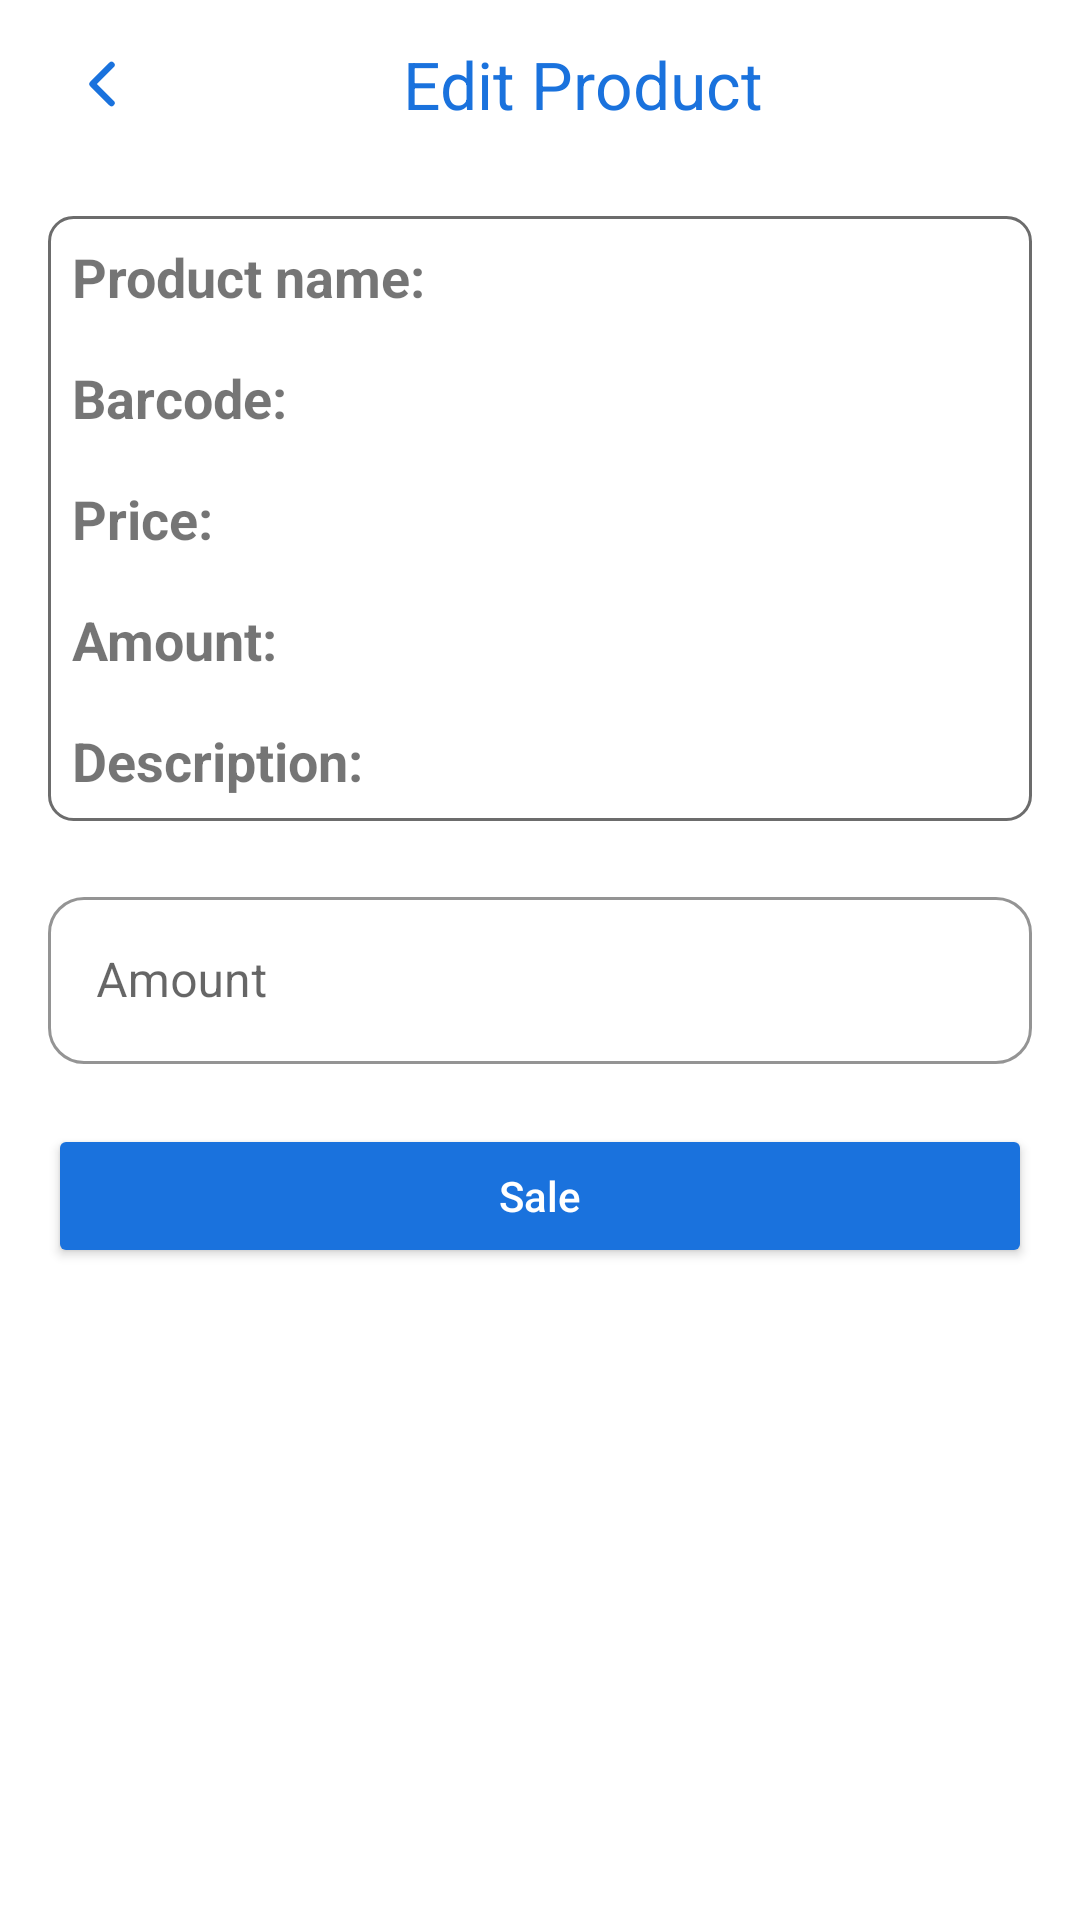

Icons on this 1080×1920 Android screen, each with its box as rect(x1, y1, x2, y2):
back: rect(89, 61, 115, 107)
